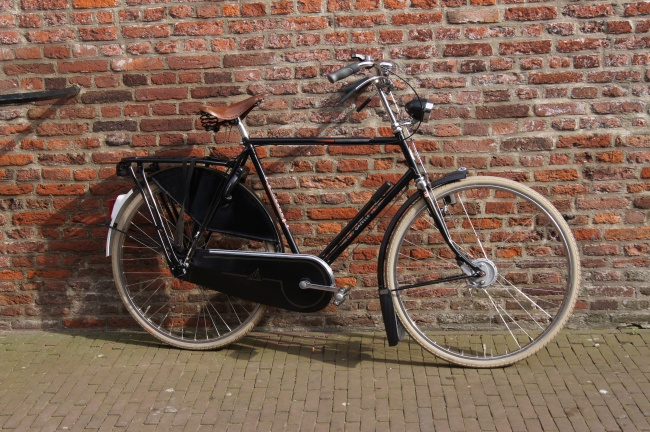MNV: (105, 54, 581, 368)
